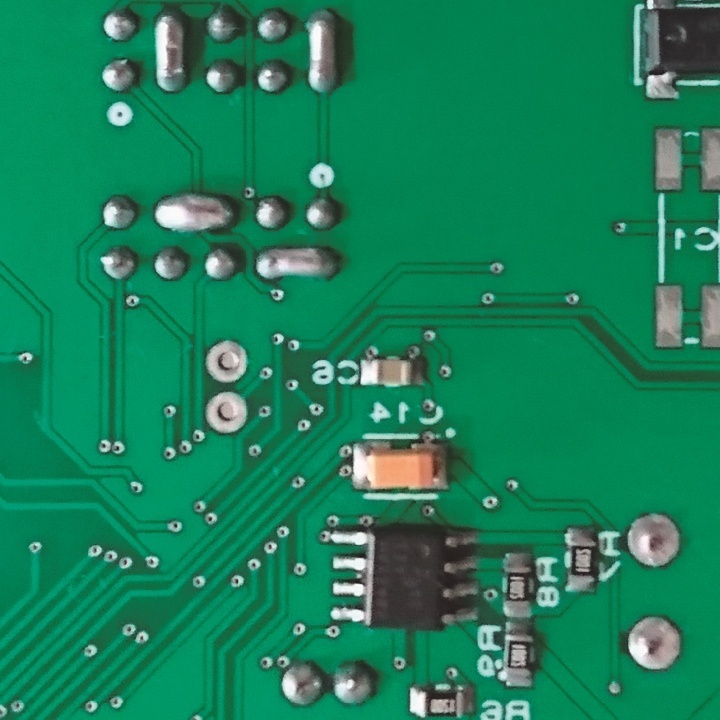F: (623, 610, 687, 675), (622, 512, 685, 569), (203, 339, 250, 383), (205, 386, 247, 435)
P: (147, 6, 190, 98), (149, 191, 236, 230), (253, 244, 342, 282), (304, 6, 340, 95)
